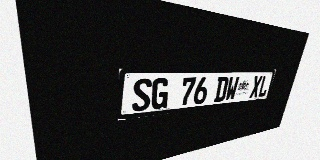6: (193, 77, 210, 105)
7: (178, 77, 196, 106)
D: (213, 77, 229, 102)
G: (150, 78, 170, 110)
L: (257, 76, 270, 97)
S: (132, 78, 152, 112)
W: (224, 76, 240, 101)
X: (249, 76, 263, 98)
